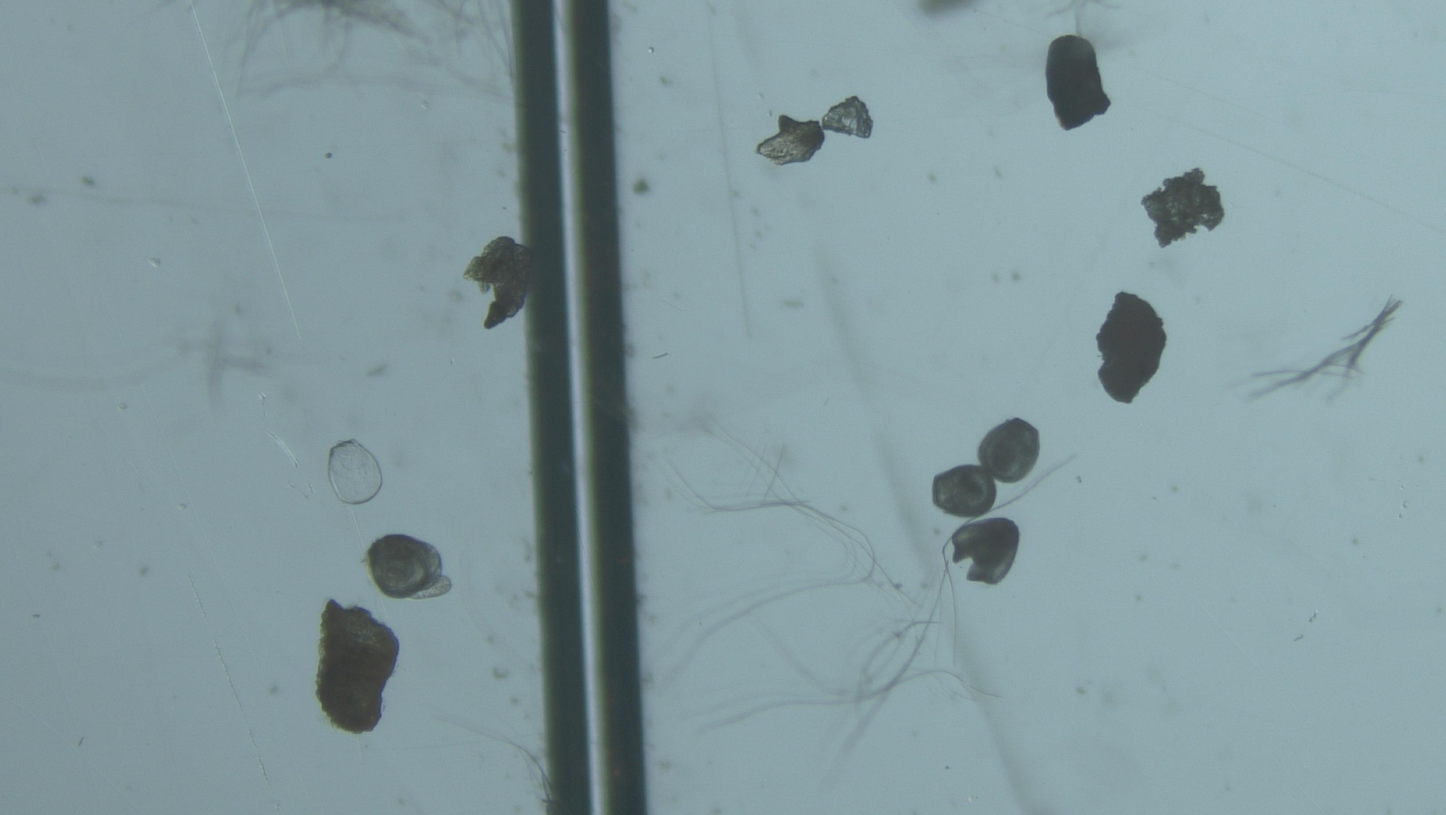dead: (329, 439, 382, 505)
live: (365, 535, 451, 600), (951, 518, 1020, 585), (978, 418, 1040, 484), (933, 465, 996, 518)
